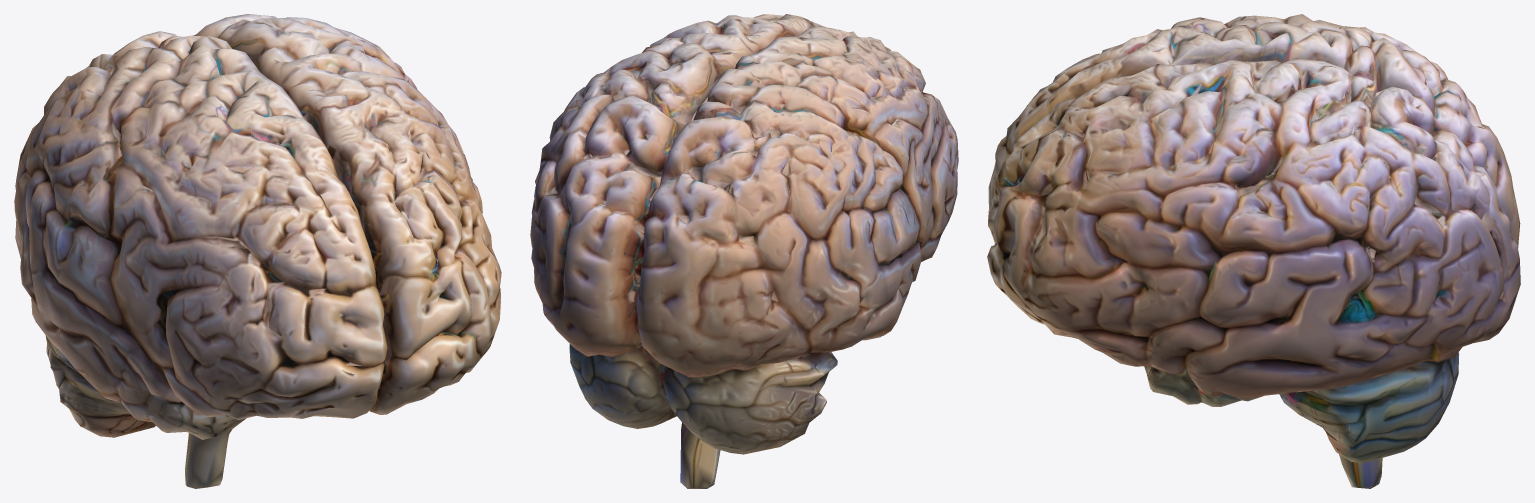
File: human-brain.glb
The picture shows the model from 3 angles, left to right: view 1: azimuth 30°, elevation 25°; view 2: azimuth 150°, elevation 25°; view 3: azimuth 270°, elevation 25°; orthographic projection. The views are drawn at different scales.
Visible parts, largest first — view 1: Object_4; view 2: Object_4; view 3: Object_4.
Boxes of the visible parts, <box> form: Object_4: <box>14,14,501,488</box>; Object_4: <box>530,14,958,488</box>; Object_4: <box>987,14,1520,488</box>.
Bounding box in the file's own units: 1.55 × 1.82 × 2.
Materials: 1 (1 with a texture image).
